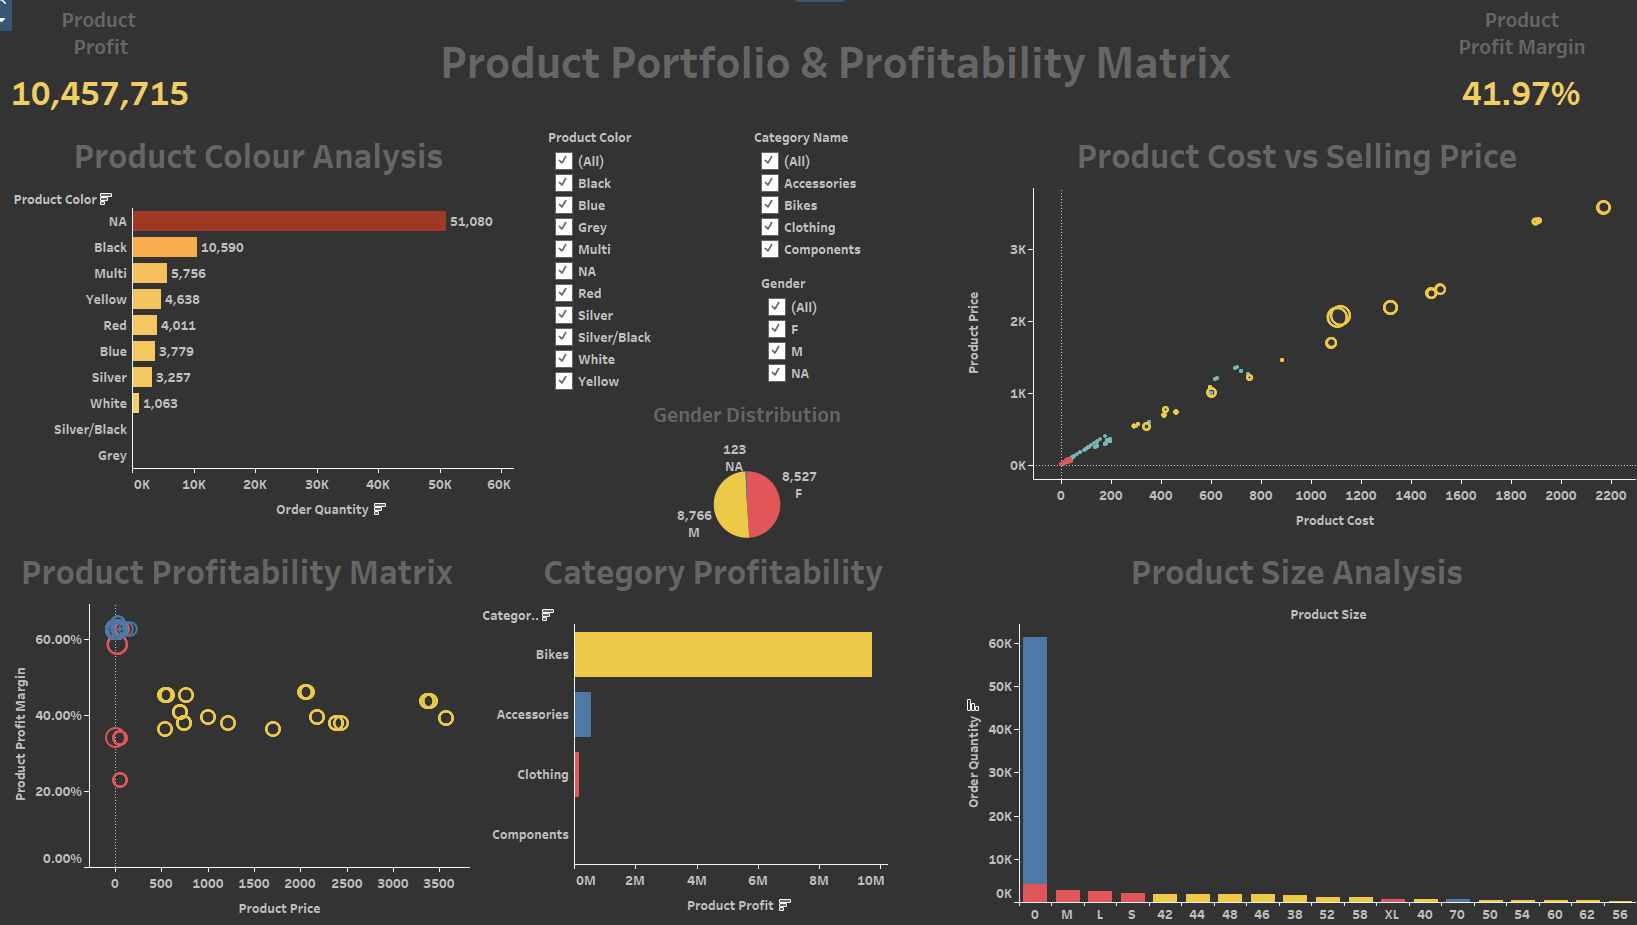

Layout of this report page (visuals, bound fields, positions):
{"tool":"tableau","page":{"name":"Product Portfolio & Profitability Matrix","canvas":[1000,1000],"units":"permille","ordinal":1},"visuals":[{"type":"worksheet","title":"Product Profit","mark":"Automatic","box":[4.8,8.4,133.9,134]},{"type":"text","box":[138.7,8.4,740.5,134]},{"type":"worksheet","title":"Product Profit Margin","mark":"Automatic","box":[879.2,8.4,116,134]},{"type":"worksheet","title":"Product Colour Analysis","mark":"Automatic","rows":["ProductColor"],"cols":["OrderQuantity"],"box":[4.8,142.4,328.2,439.2]},{"type":"filter","title":"Product Colour Analysis","param":"[federated.1hjuwdg0d7bzxl14a3a6u0hg4tcx].[none:ProductColor:nk]","box":[333,142.4,124.4,439.2]},{"type":"filter","title":"Product Cost vs Selling Price","param":"[federated.1hjuwdg0d7bzxl14a3a6u0hg4tcx].[none:CategoryName:nk]","box":[457.4,142.4,122.5,439.2]},{"type":"worksheet","title":"Product Cost vs Selling Price","mark":"Automatic","rows":["ProductPrice"],"cols":["ProductCost"],"box":[579.9,142.4,415.2,439.2]},{"type":"filter","title":"Category Profitability","param":"[federated.1hjuwdg0d7bzxl14a3a6u0hg4tcx].[none:Gender:nk]","box":[460.5,299.9,96.6,119.3]},{"type":"worksheet","title":"Gender Distribution (2)","mark":"Pie","box":[334.3,429.8,245.6,188]},{"type":"worksheet","title":"Product Profitability Matrix","mark":"Automatic","rows":["Calculation_736620077974130694"],"cols":["ProductPrice"],"box":[4.8,581.7,285.8,409.9]},{"type":"worksheet","title":"Category Profitability","mark":"Automatic","rows":["CategoryName"],"cols":["Calculation_736620077974052869"],"box":[290.6,581.7,289.3,409.9]},{"type":"worksheet","title":"Product Size Analysis","mark":"Automatic","rows":["OrderQuantity"],"cols":["ProductSize"],"box":[579.9,581.7,415.2,409.9]}]}

Visuals, with their boxes on the dashboard's canvas, which has no fixed pixel size, in thousandths of its width and height (x1, y1, x2, y2). These are canvas units, not pixel positions in the 1637x925 screenshot, which may show the page scaled, cropped or inside an application window:
"Product Profit" worksheet: locate(5, 8, 139, 142)
text: locate(139, 8, 879, 142)
"Product Profit Margin" worksheet: locate(879, 8, 995, 142)
"Product Colour Analysis" worksheet: locate(5, 142, 333, 582)
"Product Colour Analysis" filter: locate(333, 142, 457, 582)
"Product Cost vs Selling Price" filter: locate(457, 142, 580, 582)
"Product Cost vs Selling Price" worksheet: locate(580, 142, 995, 582)
"Category Profitability" filter: locate(460, 300, 557, 419)
"Gender Distribution (2)" worksheet (Pie marks): locate(334, 430, 580, 618)
"Product Profitability Matrix" worksheet: locate(5, 582, 291, 992)
"Category Profitability" worksheet: locate(291, 582, 580, 992)
"Product Size Analysis" worksheet: locate(580, 582, 995, 992)
